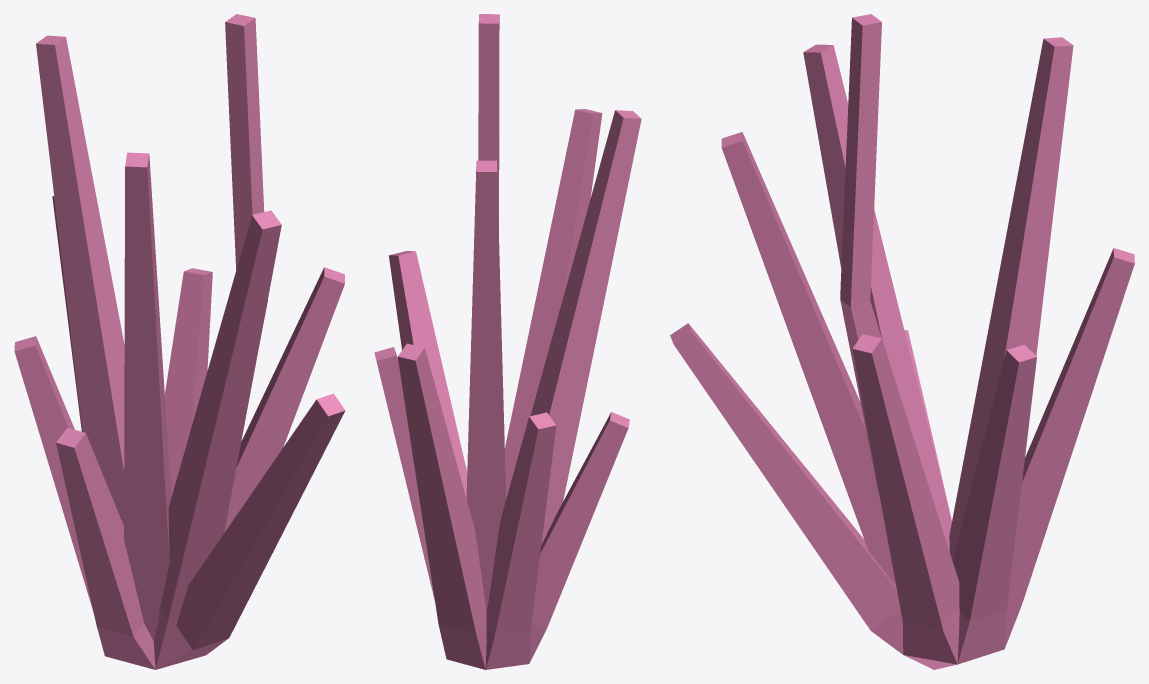
The model's file is alien_plant_v2.fbx.
3 renders of one model, left to right at view 1: azimuth 30°, elevation 25°; view 2: azimuth 150°, elevation 25°; view 3: azimuth 270°, elevation 25°, orthographic. The views are drawn at different scales.
Parts seen in each view (by area): view 1: AlienPlantD; view 2: AlienPlantD; view 3: AlienPlantD.
Part boxes in pixels (x1,y1,x2,y2): AlienPlantD: (14,14,345,669); AlienPlantD: (374,14,641,669); AlienPlantD: (670,14,1134,669).
Size of the model in its own units: 66.73 by 152 by 97.88.
